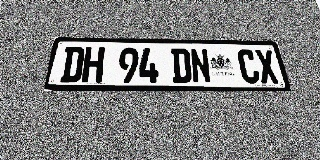4: (139, 48, 158, 83)
9: (118, 47, 139, 83)
C: (236, 49, 261, 83)
D: (60, 47, 85, 83), (171, 48, 192, 83)
H: (81, 47, 105, 83)
N: (190, 49, 212, 83)
X: (254, 50, 280, 83)
